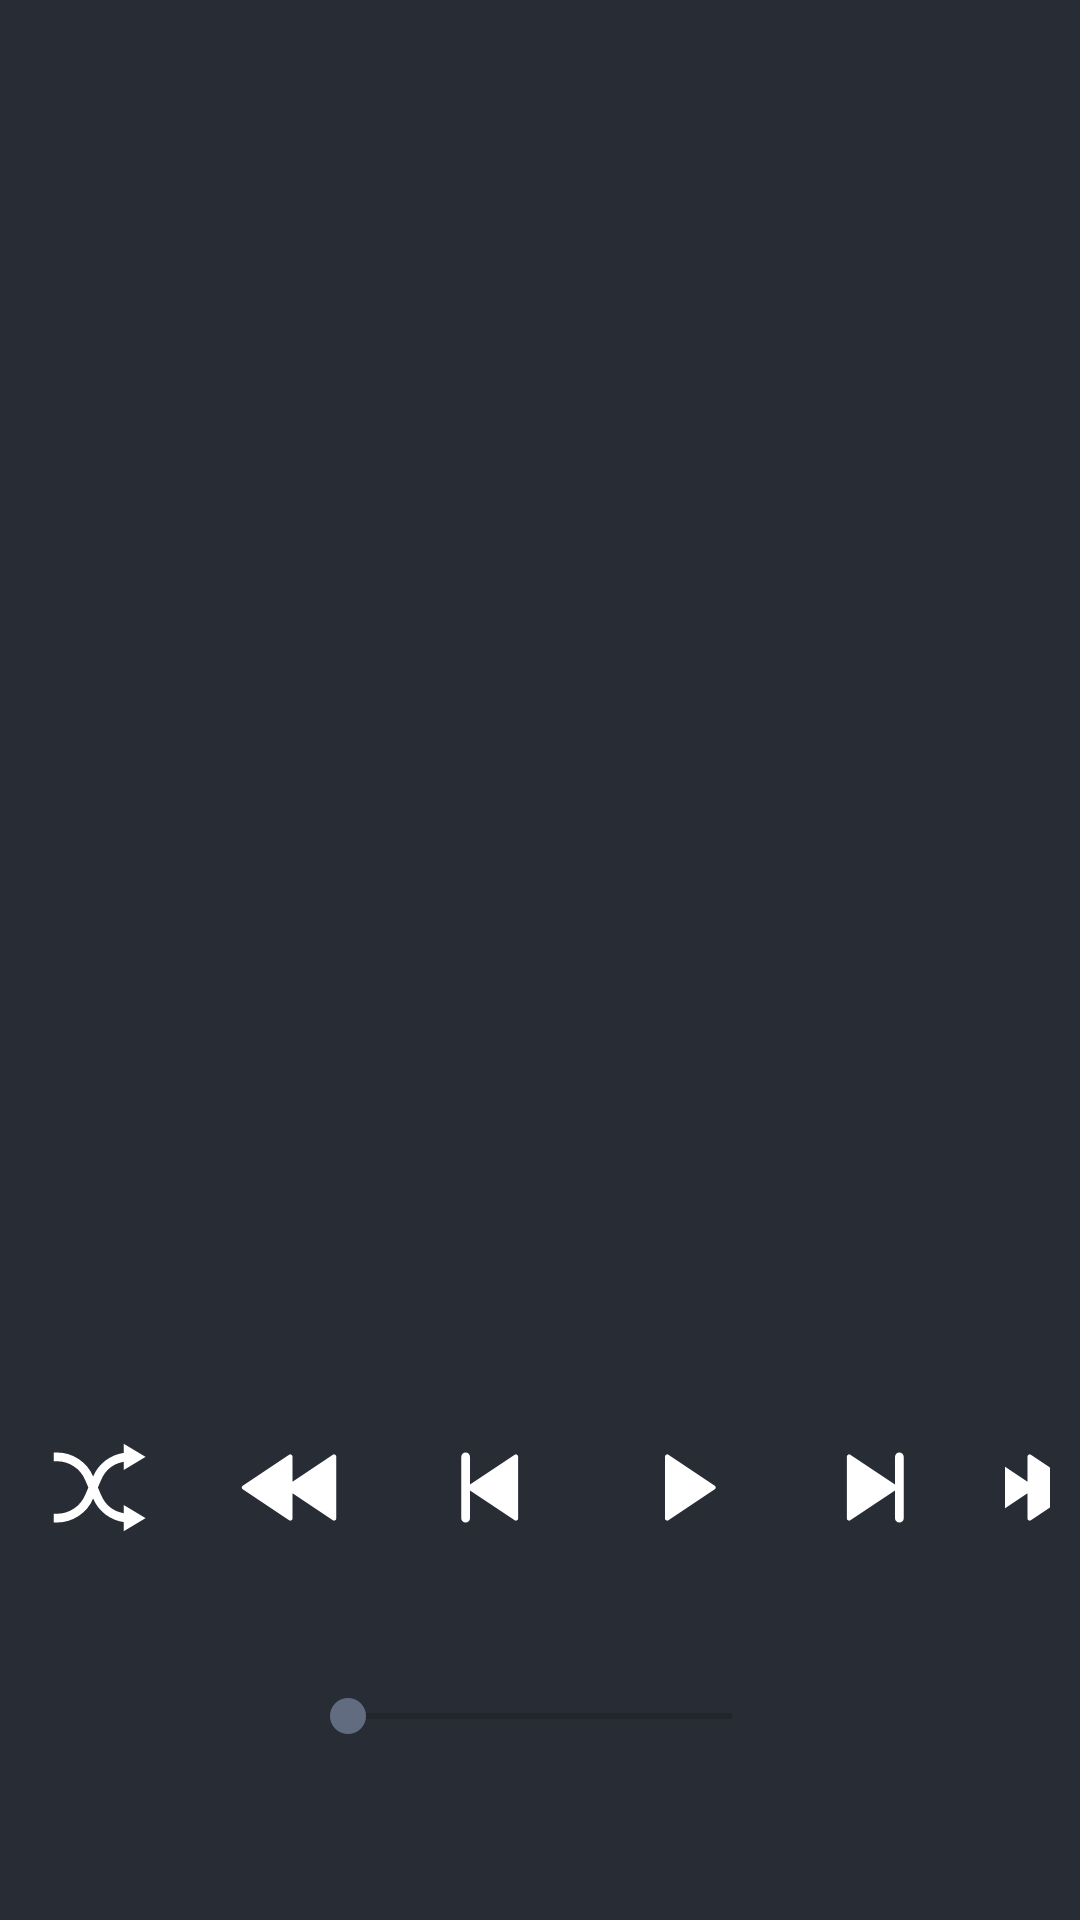

Named icons in this screenshot (1080px×1920px) and their bounding boxes, box(x1, y1, x2, y2):
play: box(665, 1454, 716, 1521)
rewind: box(241, 1454, 337, 1521)
shuffle: box(53, 1444, 146, 1531)
skip back: box(461, 1452, 519, 1523)
skip forward: box(846, 1452, 904, 1523)
